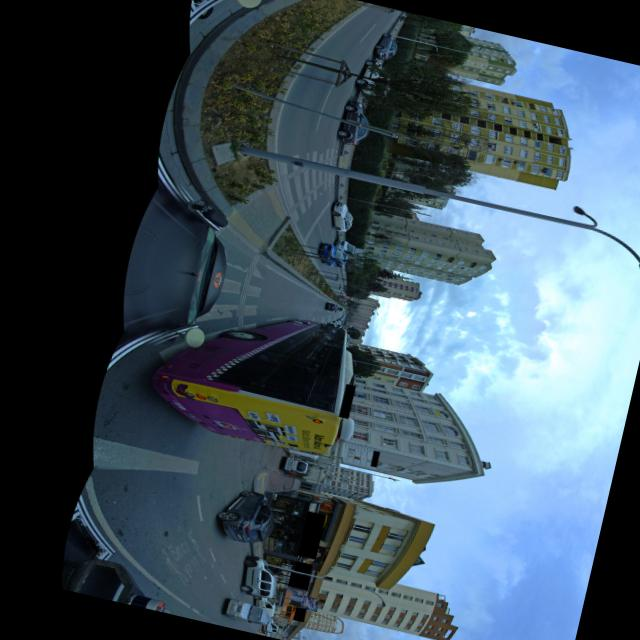SignStore: (296, 510, 324, 559), (286, 572, 308, 589), (339, 384, 350, 417), (293, 561, 311, 574), (292, 607, 305, 621), (369, 450, 376, 467)
